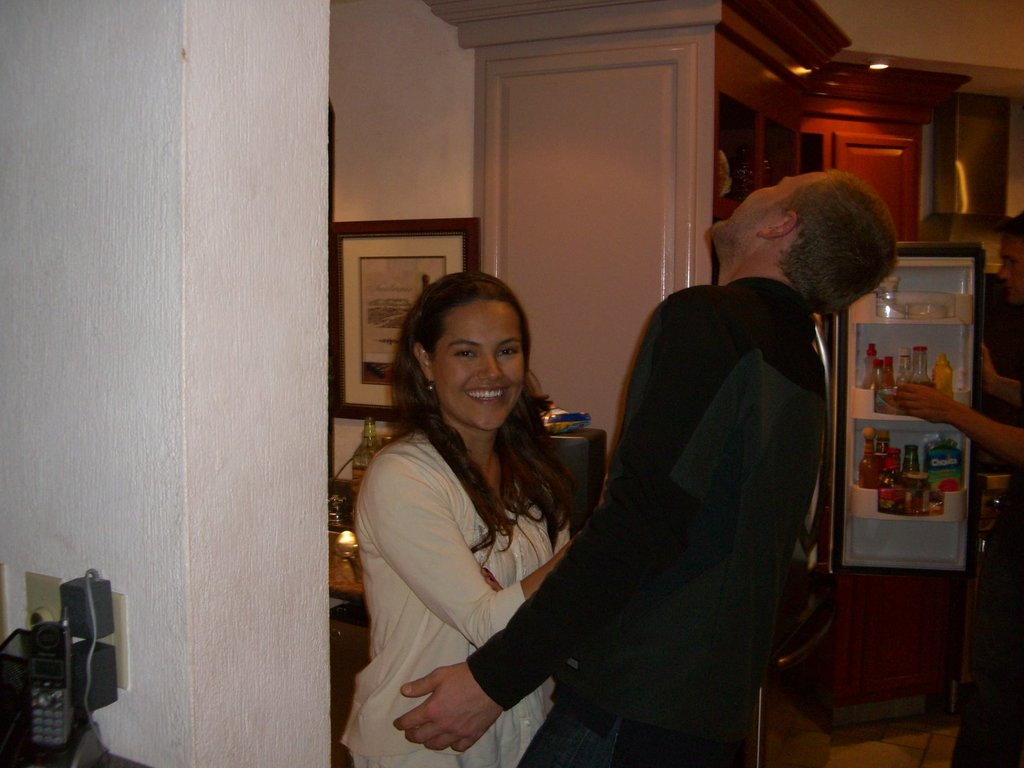refrigerator door: (850, 267, 968, 567)
